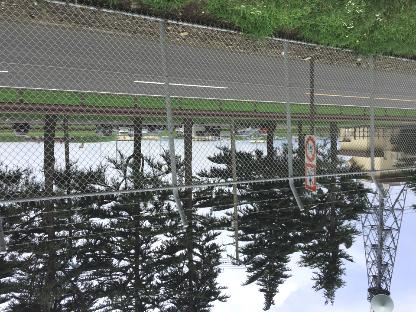A10: (213, 136, 231, 142), (242, 136, 264, 140), (274, 136, 286, 140)
